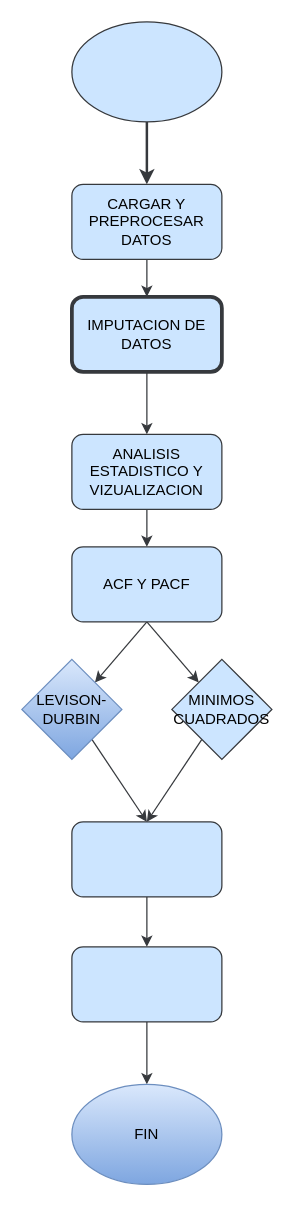
Image size: 294x1206. Some labels were removed from this diagram. The centre of each missing label's shape, as x and y in pixels:
INICIO: [146,71]
MODELADO AR: [146,859]
PRONOSTICO: [146,984]
